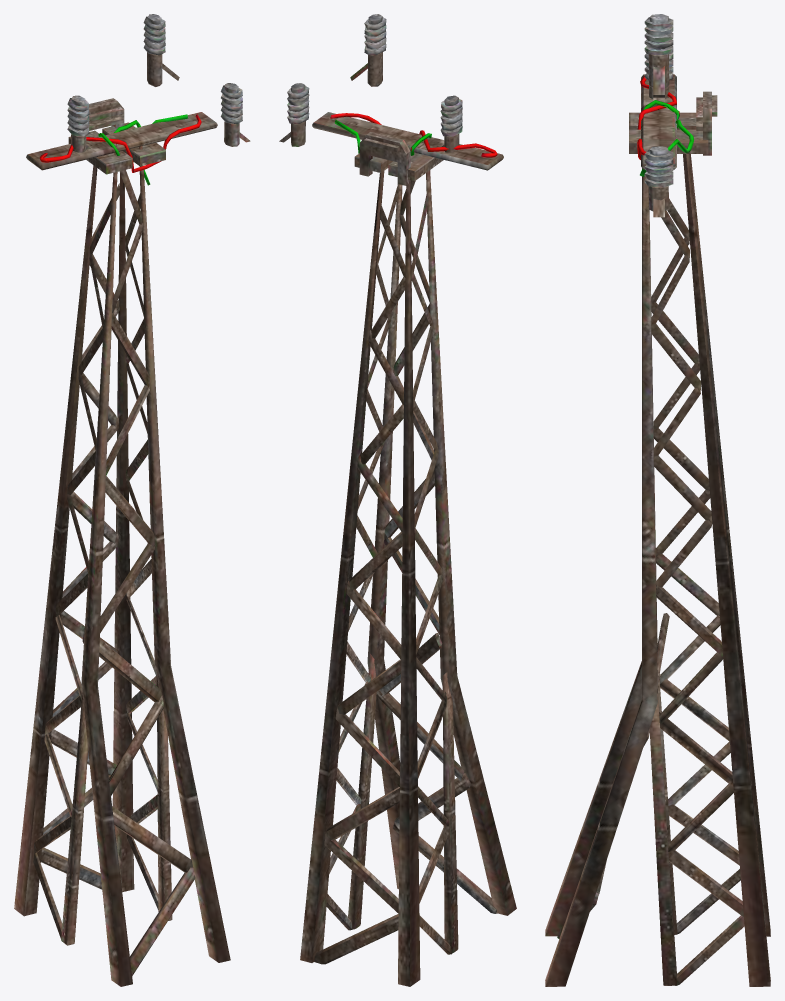
Rendered from medium-electric-pole.glb.
3 renders of one model, left to right at view 1: azimuth 30°, elevation 25°; view 2: azimuth 150°, elevation 25°; view 3: azimuth 270°, elevation 25°, orthographic. The views are drawn at different scales.
Visible parts, largest first — view 1: body; view 2: body; view 3: body.
Part boxes in pixels (box(x1,y1,x2,y2)): body: box(14, 14, 250, 986); body: box(279, 14, 516, 986); body: box(545, 14, 770, 986).
Size of the model in its own units: 1.27 by 5.14 by 1.1.
1 material, 1 textured.
